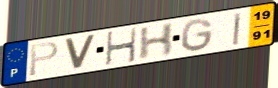G: (180, 17, 215, 53)
H: (137, 21, 177, 62), (105, 26, 139, 67)
I: (231, 11, 244, 47)
P: (28, 40, 61, 78)
V: (62, 34, 98, 71)
